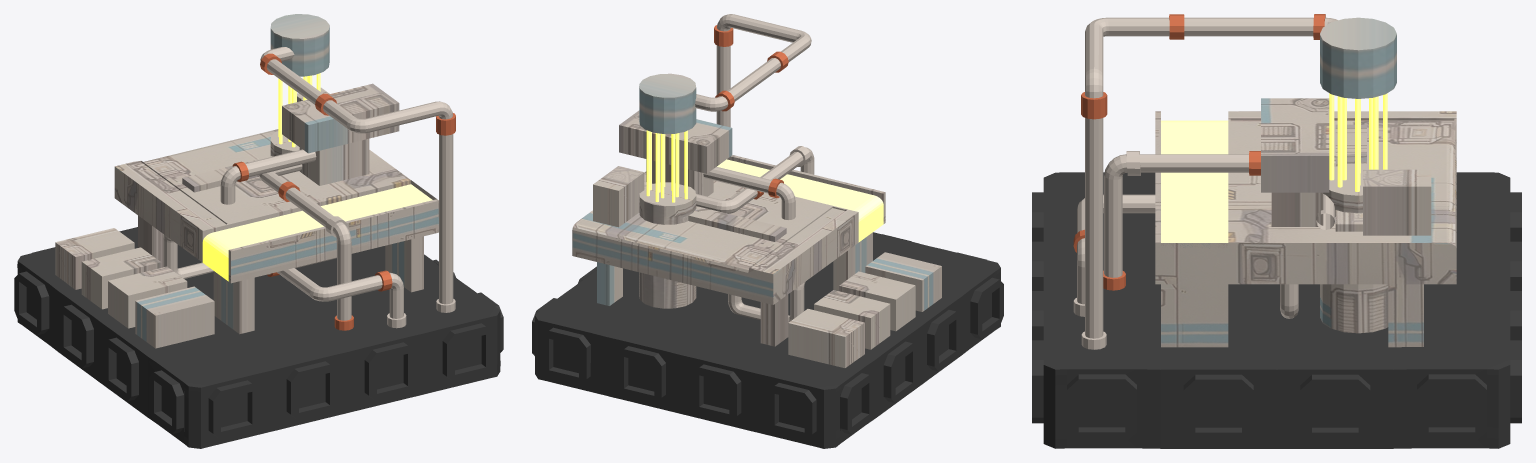
Rendered from buildingAssembler.fbx.
The picture shows the model from 3 angles, left to right: view 1: azimuth 30°, elevation 25°; view 2: azimuth 150°, elevation 25°; view 3: azimuth 270°, elevation 25°; orthographic projection. The views are drawn at different scales.
Parts seen in each view (by area): view 1: Cube.001, Base4x4, Light.001; view 2: Cube.001, Base4x4, Light.001; view 3: Base4x4, Cube.001, Light.001.
Part boxes in pixels (x1,y1,x2,y2): Cube.001: [55, 14, 455, 348]; Base4x4: [14, 227, 503, 448]; Light.001: [202, 73, 432, 281]; Cube.001: [572, 14, 941, 367]; Base4x4: [532, 232, 1003, 448]; Light.001: [646, 130, 883, 242]; Base4x4: [1032, 172, 1521, 448]; Cube.001: [1073, 14, 1456, 349]; Light.001: [1161, 93, 1387, 242].
Bounding box in the file's own units: 420 × 343 × 420.
Materials: 3 (1 with a texture image).
